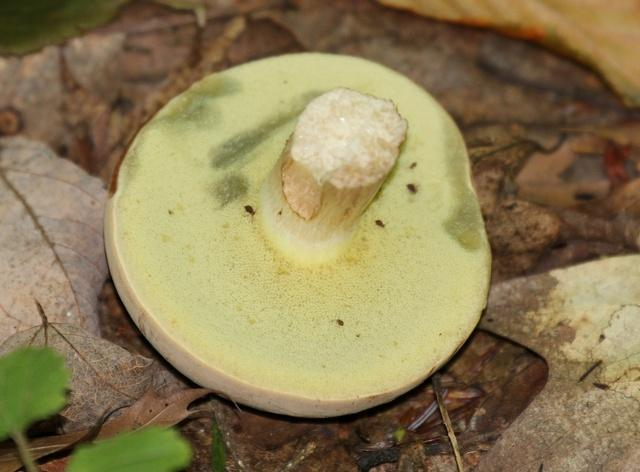Edible Mushroom: (102, 50, 493, 418)
